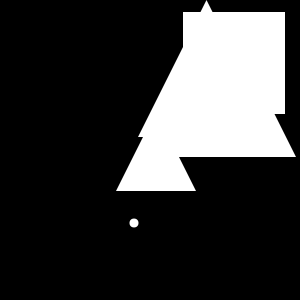circle: (183, 12, 285, 114)
rectangle: (130, 218, 138, 228)
triangle: (154, 15, 296, 157), (138, 0, 275, 137), (116, 111, 196, 191)
